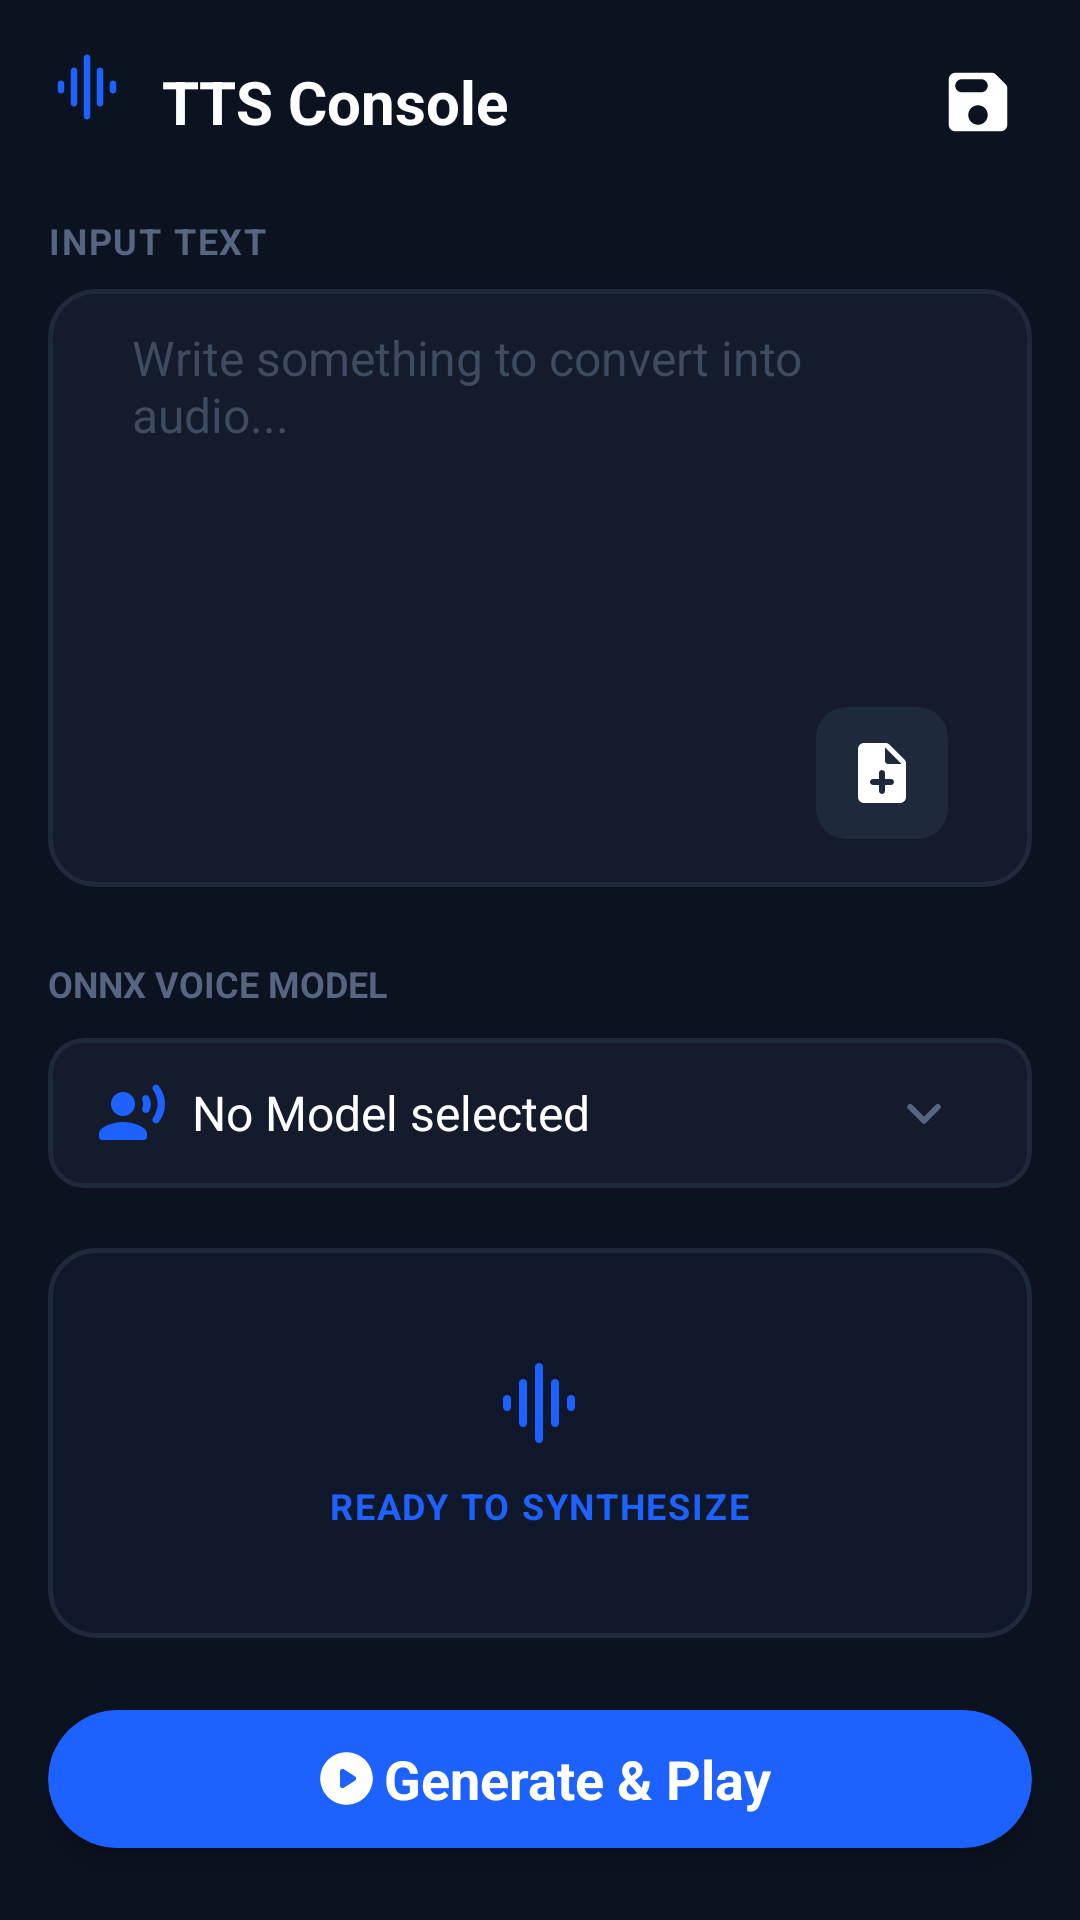

Named icons in this screenshot (1080w x 1920h) and their centers, point (x, y):
graphic eq: point (87, 87), point (539, 1403)
keyboard arrow: point (924, 1114)
note add: point (882, 773)
play circle: point (346, 1778)
record voice: point (132, 1112)
save: point (978, 102)
